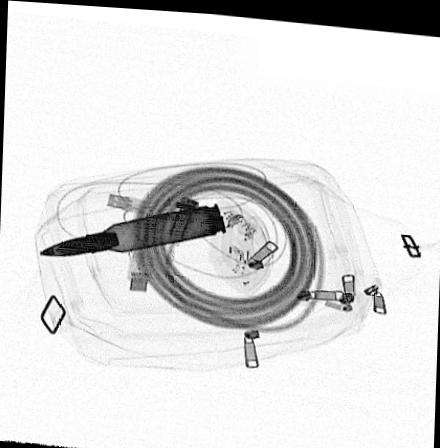Bullet: (33, 199, 227, 255)
